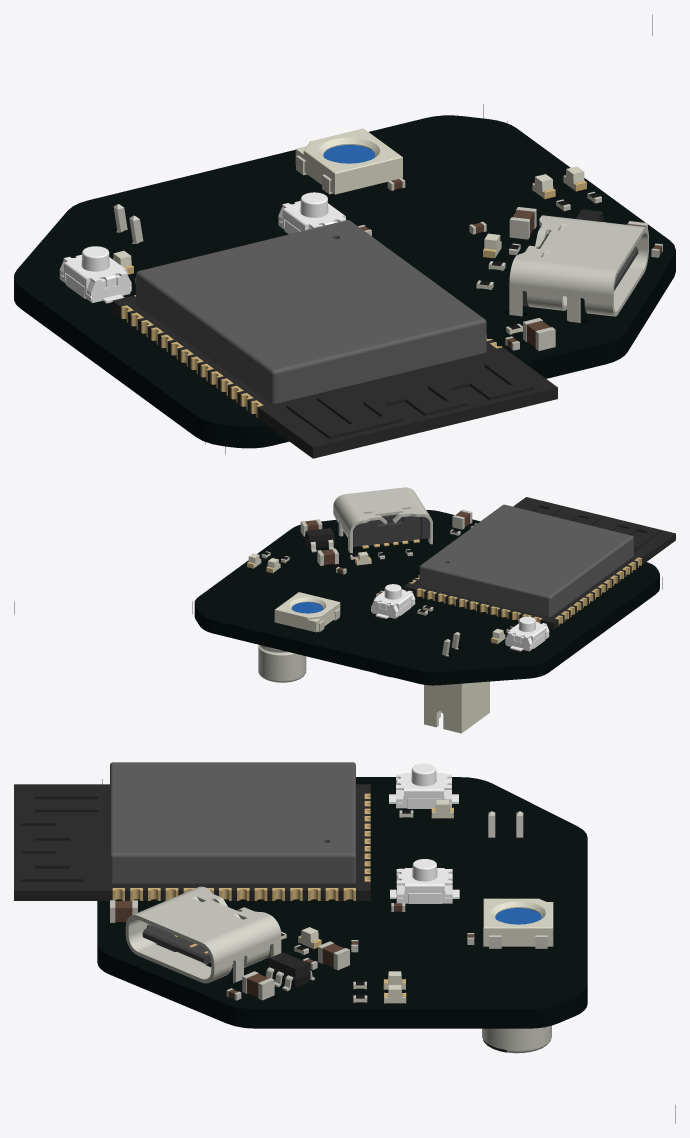
Rendered from hallfx-module-draco.glb.
The picture shows the model from 3 angles, top to bottom: view 1: azimuth 30°, elevation 25°; view 2: azimuth 150°, elevation 25°; view 3: azimuth 270°, elevation 25°; orthographic projection. The views are drawn at different scales.
Parts seen in each view (by area): view 1: HAL424E_PCB_1, ESP32-S3-WROOM-1_481, ESP32-S3-WROOM-1, C_0805_2012Metric, TS-1185-X-B-A-A, LED_WS2812B_PLCC4_50x50mm_P32mm, LED_0603_1608Metric_7, LED_0603_1608Metric, C_0805_2012Metric_10, LED_WS2812B_PLCC4_50x50mm_P32mm_13; view 2: HAL424E_PCB_1, ESP32-S3-WROOM-1_481, C_0805_2012Metric, ESP32-S3-WROOM-1, JST_B2B_PH_K, TS-1185-X-B-A-A, LED_0603_1608Metric_7, USB_C_Receptacle_GCT_USB4125-xx-x_6P_TopMnt_Horizontal_376, LED_WS2812B_PLCC4_50x50mm_P32mm, LED_0603_1608Metric, SOT-23-5, C_0805_2012Metric_10; view 3: HAL424E_PCB_1, ESP32-S3-WROOM-1_481, ESP32-S3-WROOM-1, C_0805_2012Metric, TS-1185-X-B-A-A, LED_0603_1608Metric_7, LED_WS2812B_PLCC4_50x50mm_P32mm, LED_0603_1608Metric, C_0805_2012Metric_10, USB_C_Receptacle_GCT_USB4125-xx-x_6P_TopMnt_Horizontal_376, SOT-23-5, LED_WS2812B_PLCC4_50x50mm_P32mm_13.
Boxes of the visible parts, x1,y1,x2,y2 form: HAL424E_PCB_1: (14,14,675,454); ESP32-S3-WROOM-1_481: (136,220,486,403); ESP32-S3-WROOM-1: (112,295,557,458); C_0805_2012Metric: (135,155,662,350); TS-1185-X-B-A-A: (59,192,346,303); LED_WS2812B_PLCC4_50x50mm_P32mm: (295,128,402,194); LED_0603_1608Metric_7: (121,175,586,417); LED_0603_1608Metric: (113,166,594,333); C_0805_2012Metric_10: (360,179,661,348); LED_WS2812B_PLCC4_50x50mm_P32mm_13: (323,145,375,163); HAL424E_PCB_1: (14,510,662,685); ESP32-S3-WROOM-1_481: (419,504,633,616); C_0805_2012Metric: (258,487,513,682); ESP32-S3-WROOM-1: (403,497,675,629); JST_B2B_PH_K: (424,681,489,733); TS-1185-X-B-A-A: (371,584,549,651); LED_0603_1608Metric_7: (247,539,641,643); USB_C_Receptacle_GCT_USB4125-xx-x_6P_TopMnt_Horizontal_376: (353,514,430,546); LED_WS2812B_PLCC4_50x50mm_P32mm: (274,592,340,632); LED_0603_1608Metric: (248,531,505,643); SOT-23-5: (304,528,334,672); C_0805_2012Metric_10: (305,511,475,593); HAL424E_PCB_1: (97,777,675,1123); ESP32-S3-WROOM-1_481: (110,762,355,883); ESP32-S3-WROOM-1: (14,784,370,900); C_0805_2012Metric: (110,810,551,1053); TS-1185-X-B-A-A: (389,763,459,903); LED_0603_1608Metric_7: (112,793,453,1003); LED_WS2812B_PLCC4_50x50mm_P32mm: (483,898,553,946); LED_0603_1608Metric: (281,800,453,1003); C_0805_2012Metric_10: (115,901,473,999); USB_C_Receptacle_GCT_USB4125-xx-x_6P_TopMnt_Horizontal_376: (142,925,270,963); SOT-23-5: (268,952,506,1052); LED_WS2812B_PLCC4_50x50mm_P32mm_13: (495,908,541,924).
Bounding box in the file's own units: 0.0554 × 0.0109 × 0.0473.
